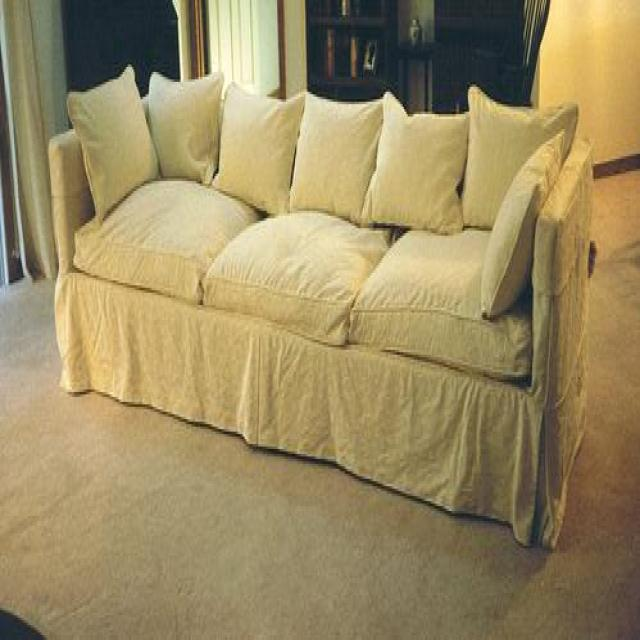sofa: (40, 63, 596, 556)
